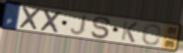J: (69, 15, 88, 36)
K: (119, 20, 139, 44)
O: (141, 23, 163, 47)
S: (90, 16, 113, 41)
X: (39, 9, 63, 35), (18, 6, 42, 32)
